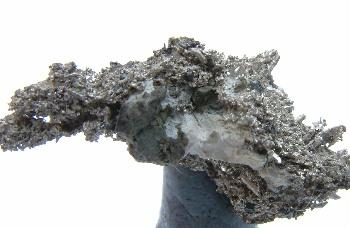silver: (0, 37, 350, 224)
